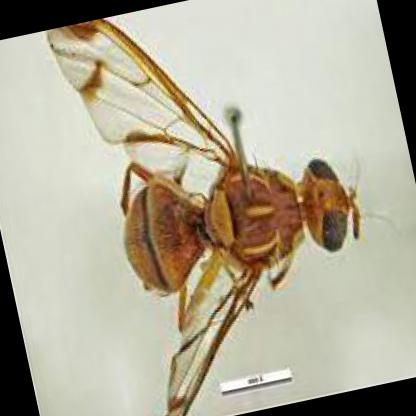fruit fly: (49, 21, 352, 416)
